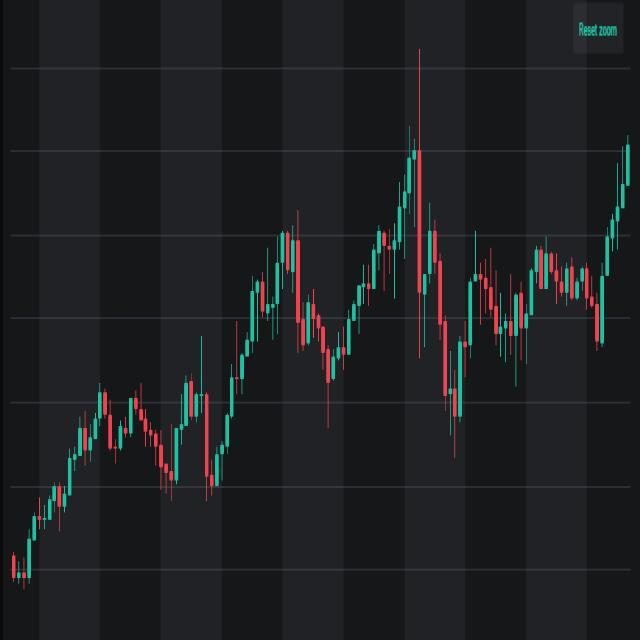Resistance-breakout: (390, 77, 636, 407), (169, 150, 292, 482)
